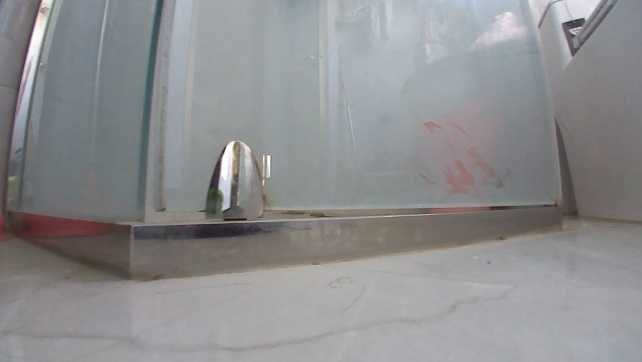toilet: (529, 0, 641, 225)
